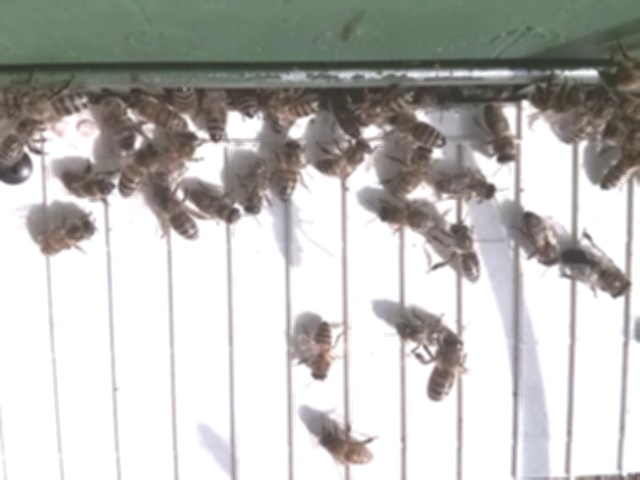Drone: (558, 244, 635, 302)
Worker: (147, 185, 202, 245), (428, 333, 469, 405), (34, 215, 100, 256), (560, 101, 615, 149), (388, 147, 434, 203), (447, 221, 485, 288), (318, 428, 380, 469), (313, 139, 375, 180), (522, 212, 562, 271), (117, 146, 158, 203), (378, 200, 442, 236), (390, 112, 448, 151), (274, 137, 306, 206), (238, 156, 274, 217), (434, 172, 500, 205), (484, 104, 518, 168), (191, 185, 241, 228), (306, 320, 337, 387), (61, 168, 117, 204)
